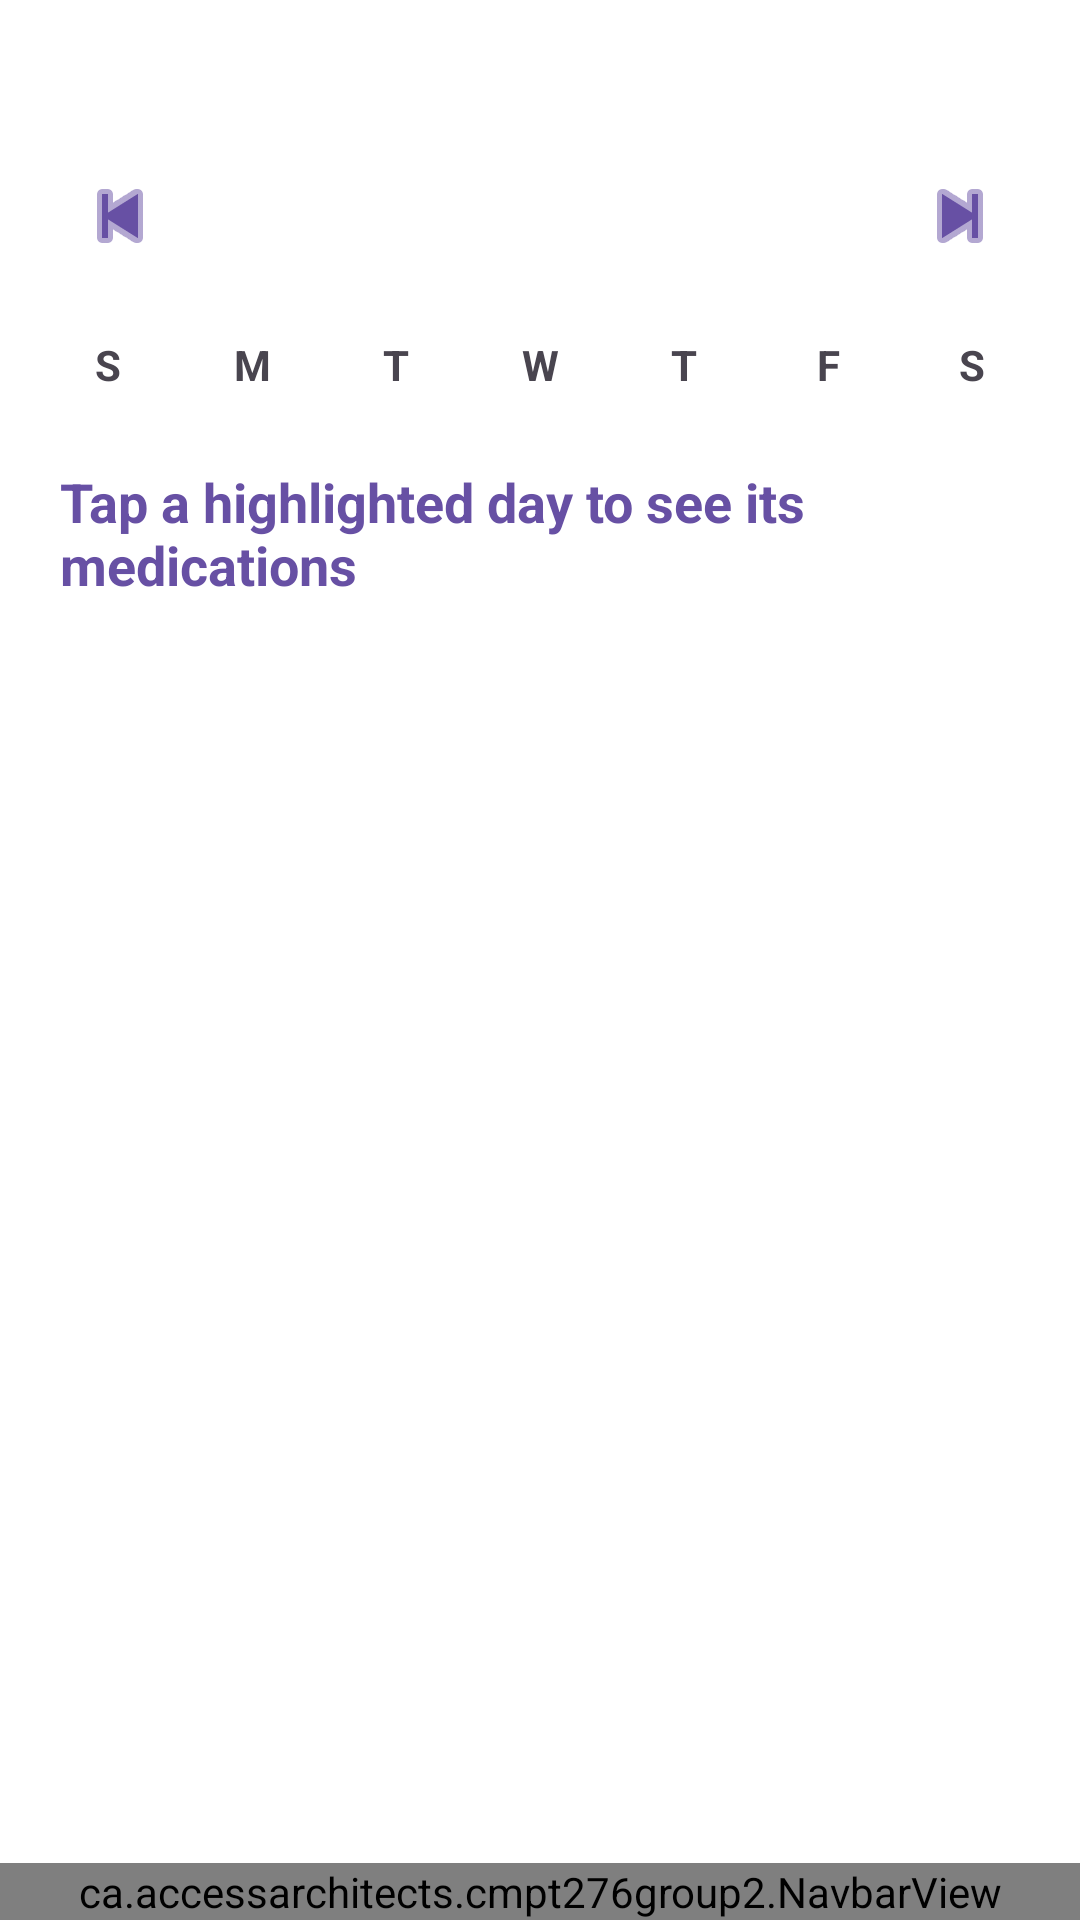

Icon click points for this 1080 x 1920 phone screenshot, format (x=x, y=y):
Next month: (x=960, y=216)
Previous month: (x=120, y=216)
